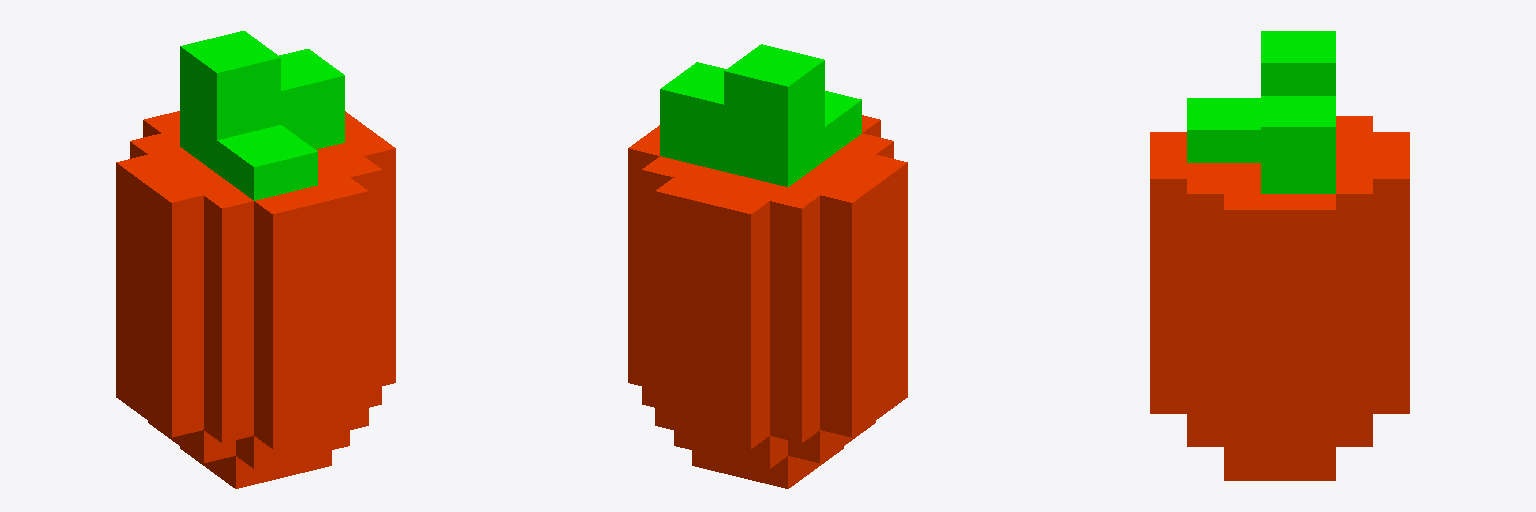
3 views of the same model, side by side, from view 1: azimuth 30°, elevation 25°; view 2: azimuth 150°, elevation 25°; view 3: azimuth 270°, elevation 25° (orthographic).
Parts seen in each view (by area): view 1: object 1; view 2: object 1; view 3: object 1.
Part boxes in pixels (x1,y1,x2,y2): object 1: (116, 31, 395, 488); object 1: (628, 44, 907, 488); object 1: (1150, 31, 1409, 480).
Size of the model in its own units: 0.7 by 1.2 by 0.7.
1 materials, 1 textured.